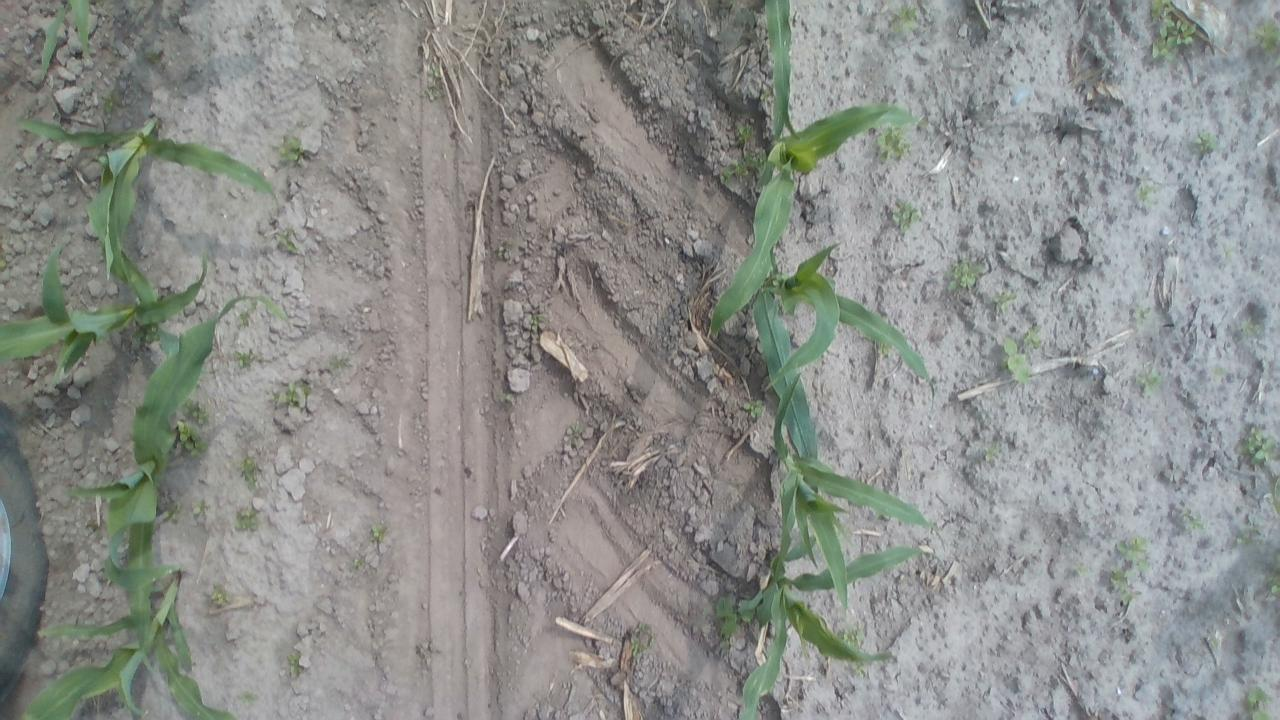Maize: (68, 292, 285, 670), (711, 89, 929, 340), (732, 237, 935, 474), (12, 110, 282, 279), (770, 381, 940, 614), (20, 552, 244, 720), (730, 541, 934, 719), (0, 234, 212, 385), (760, 0, 799, 140), (38, 1, 103, 79)
Weeds: (1148, 0, 1196, 65), (714, 594, 756, 650), (998, 333, 1036, 389), (872, 124, 915, 166), (719, 149, 768, 183), (1240, 424, 1276, 469), (1106, 566, 1142, 608), (271, 380, 314, 414), (174, 422, 211, 461), (946, 256, 984, 292), (1239, 682, 1274, 720), (889, 197, 923, 234), (888, 1, 925, 34), (1248, 19, 1280, 57), (1118, 534, 1152, 569), (423, 58, 449, 103), (276, 132, 308, 168), (273, 222, 304, 255), (1134, 364, 1164, 397), (238, 455, 264, 493), (181, 397, 213, 426), (128, 325, 163, 349), (836, 625, 866, 653), (1176, 505, 1204, 534), (232, 505, 261, 533), (562, 418, 588, 447), (978, 437, 1005, 464), (992, 288, 1018, 316), (1195, 130, 1220, 159), (1234, 526, 1264, 550), (207, 582, 233, 608), (1021, 320, 1044, 348), (742, 395, 766, 420), (236, 302, 257, 330), (632, 622, 648, 658), (326, 352, 352, 373), (232, 348, 258, 369), (164, 498, 184, 525), (496, 391, 519, 414), (1240, 318, 1262, 342), (286, 648, 303, 678), (100, 95, 117, 123), (1137, 179, 1155, 205), (1132, 304, 1153, 326), (1261, 568, 1275, 600), (528, 312, 548, 334), (237, 689, 260, 708), (368, 520, 386, 544), (191, 498, 211, 519), (496, 242, 514, 264), (1205, 632, 1224, 652), (1208, 365, 1229, 383), (143, 49, 166, 64), (876, 338, 894, 357), (849, 662, 868, 680), (1069, 562, 1089, 579), (1220, 243, 1238, 260), (737, 125, 755, 140), (798, 641, 813, 659), (89, 520, 102, 539), (0, 252, 8, 270), (352, 556, 363, 568), (760, 88, 770, 101), (1275, 57, 1280, 66)
